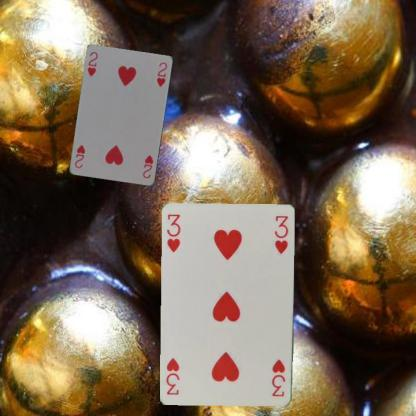2h: (140, 152, 155, 180), (85, 49, 99, 78)
3h: (269, 356, 287, 398), (165, 211, 182, 254)
